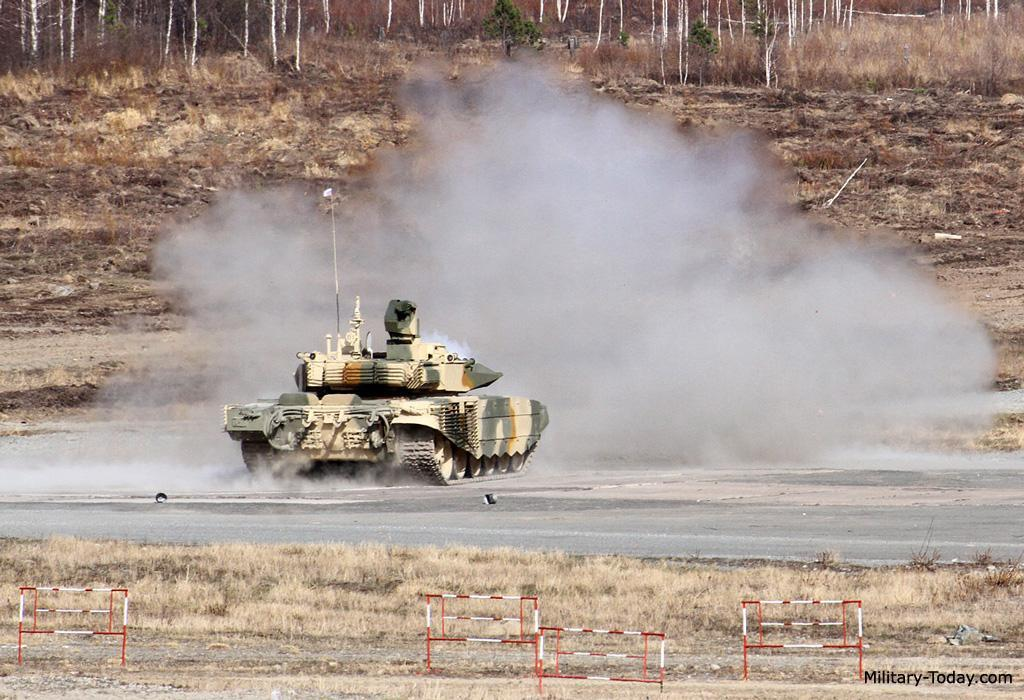tank: (219, 294, 551, 489)
